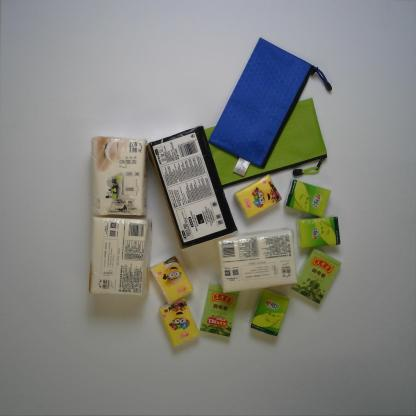Candy: (289, 245, 344, 307), (198, 282, 242, 339)
Stationery: (207, 35, 336, 177), (196, 96, 331, 192)
Tissue: (146, 123, 238, 253), (212, 228, 301, 296), (84, 214, 154, 297), (88, 134, 150, 216), (232, 172, 284, 220), (157, 296, 202, 350), (149, 254, 195, 306), (248, 286, 292, 338), (282, 178, 332, 220), (295, 214, 342, 251)
